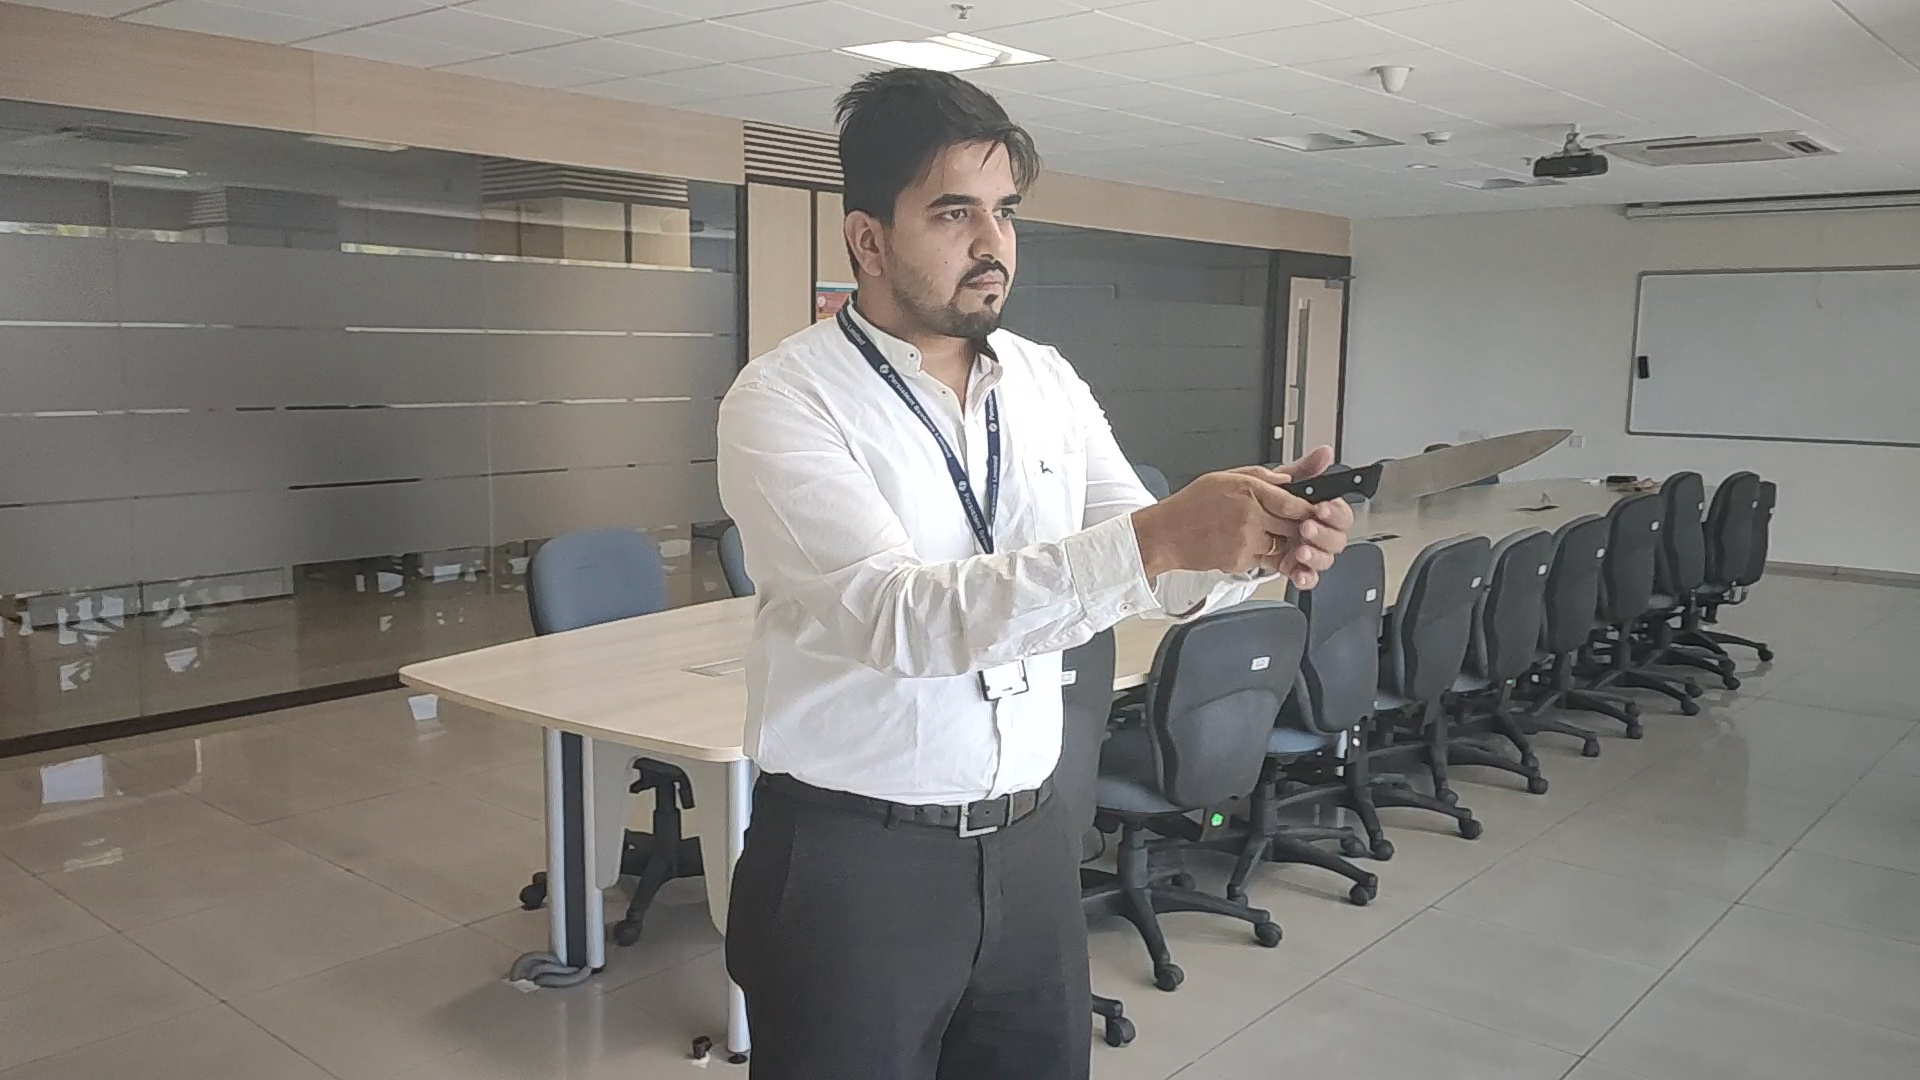knife: (1356, 426, 1575, 506)
